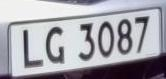0: (96, 17, 116, 64)
3: (75, 17, 97, 67)
7: (132, 11, 152, 58)
8: (115, 14, 135, 60)
G: (43, 22, 69, 71)
L: (19, 24, 45, 74)
